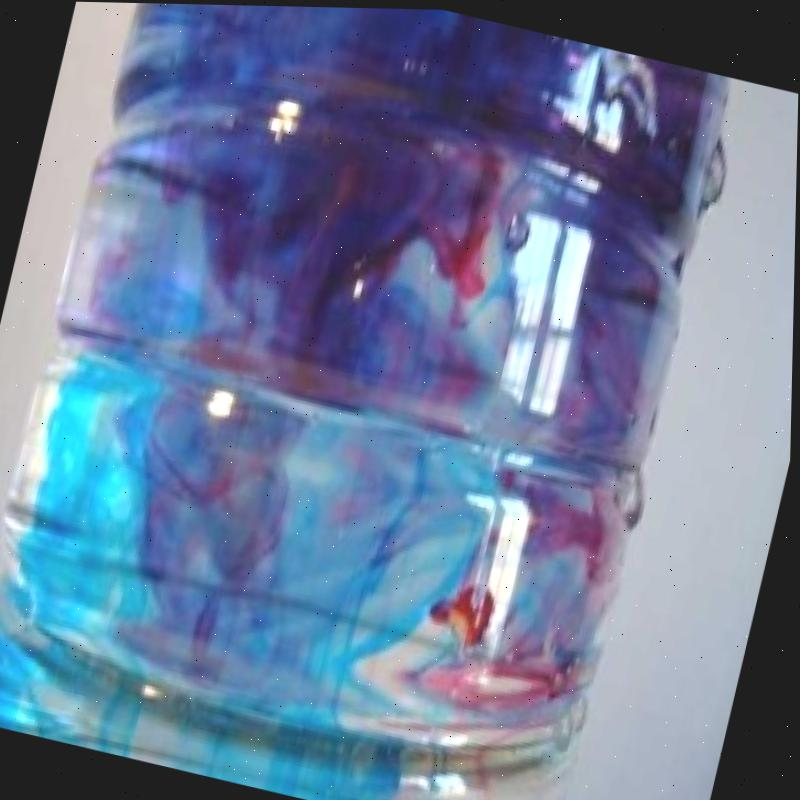botella: (0, 0, 749, 800)
